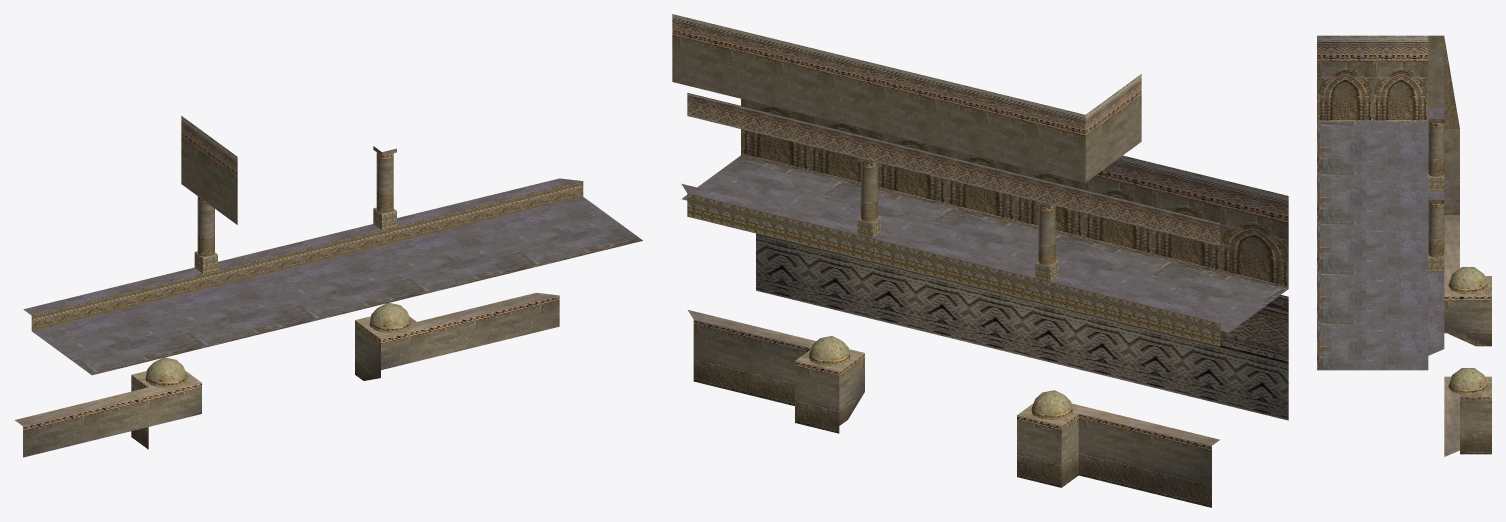
Rendered from M7_CourtYard_C.glb.
The picture shows the model from 3 angles, left to right: view 1: azimuth 30°, elevation 25°; view 2: azimuth 150°, elevation 25°; view 3: azimuth 270°, elevation 25°; orthographic projection. The views are drawn at different scales.
Parts seen in each view (by area): view 1: M7_COURTYARD_C; view 2: M7_COURTYARD_C; view 3: M7_COURTYARD_C.
Part boxes in pixels (x1,y1,x2,y2): M7_COURTYARD_C: [15, 116, 642, 457]; M7_COURTYARD_C: [672, 14, 1288, 507]; M7_COURTYARD_C: [1317, 35, 1491, 456].
Size of the model in its own units: 18.89 by 11.07 by 5.5.
7 materials, 7 textured.
